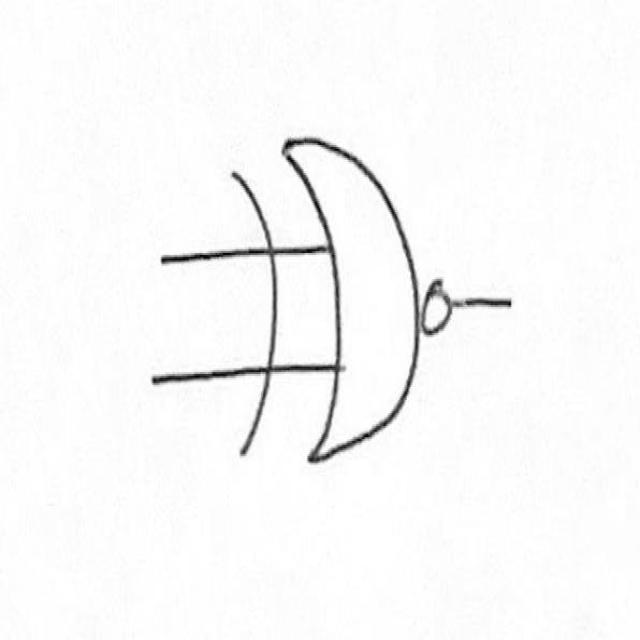XNOR: (218, 131, 466, 512)
